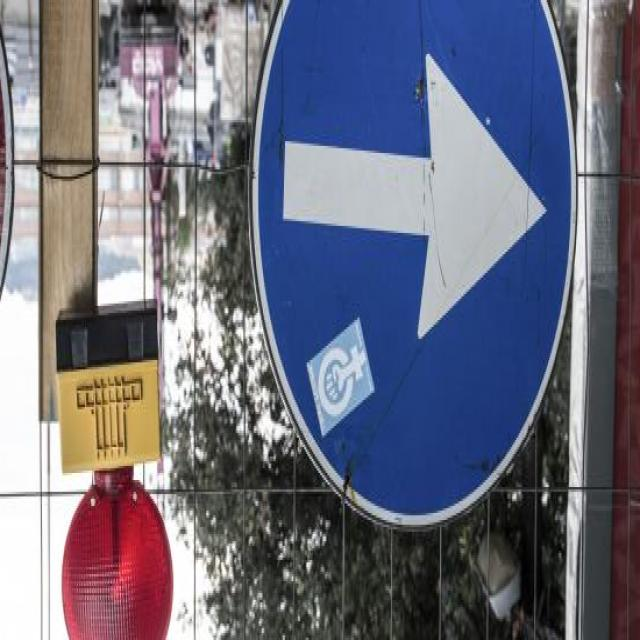Turn Right: (247, 4, 563, 550)
